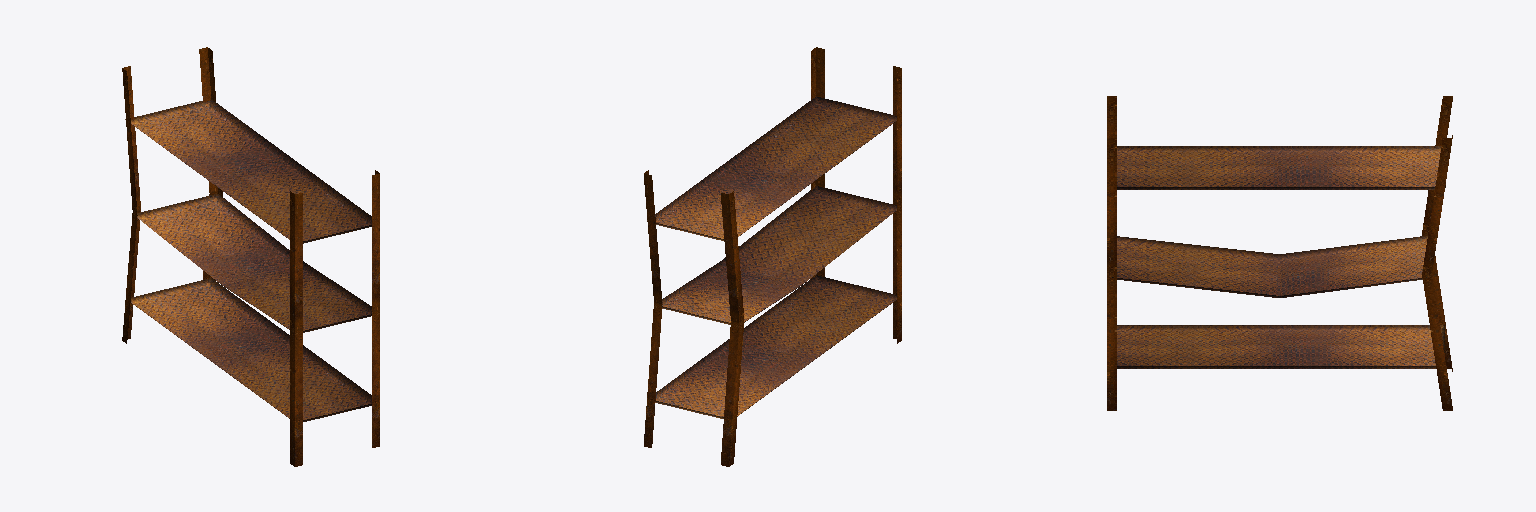
3 renders of one model, left to right at view 1: azimuth 30°, elevation 25°; view 2: azimuth 150°, elevation 25°; view 3: azimuth 270°, elevation 25°, orthographic.
Visible parts, largest first — view 1: Rack1; view 2: Rack1; view 3: Rack1.
Boxes of the visible parts, x1=… form: Rack1: x1=122, y1=47, x2=379, y2=466; Rack1: x1=644, y1=47, x2=901, y2=466; Rack1: x1=1107, y1=96, x2=1452, y2=410.
Bounding box in the file's own units: 2.22 × 6.1 × 7.
Materials: 1 (1 with a texture image).